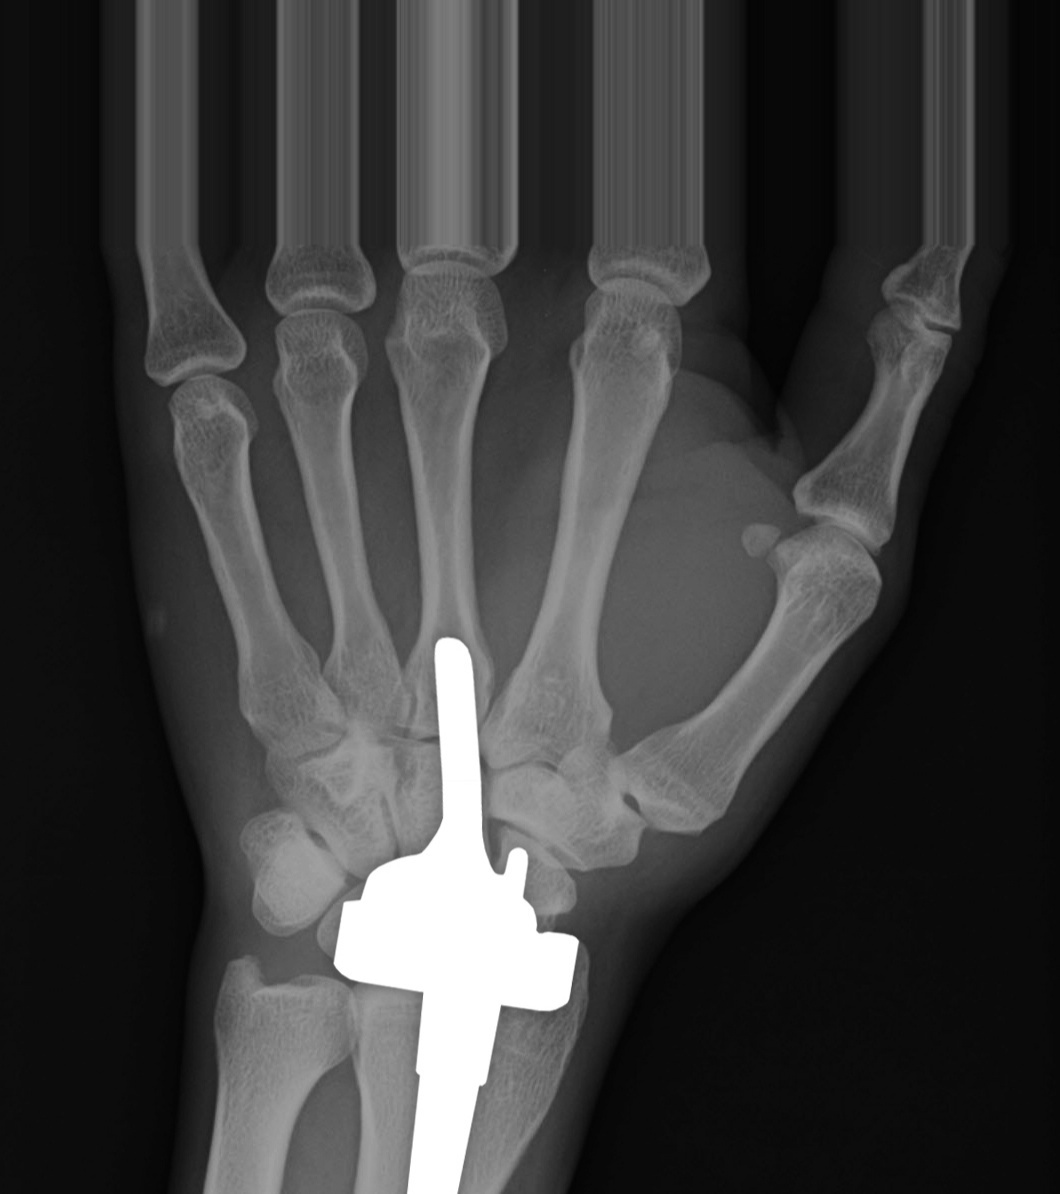Wrist-Biax-DePuuy: (276, 614, 593, 1194)
